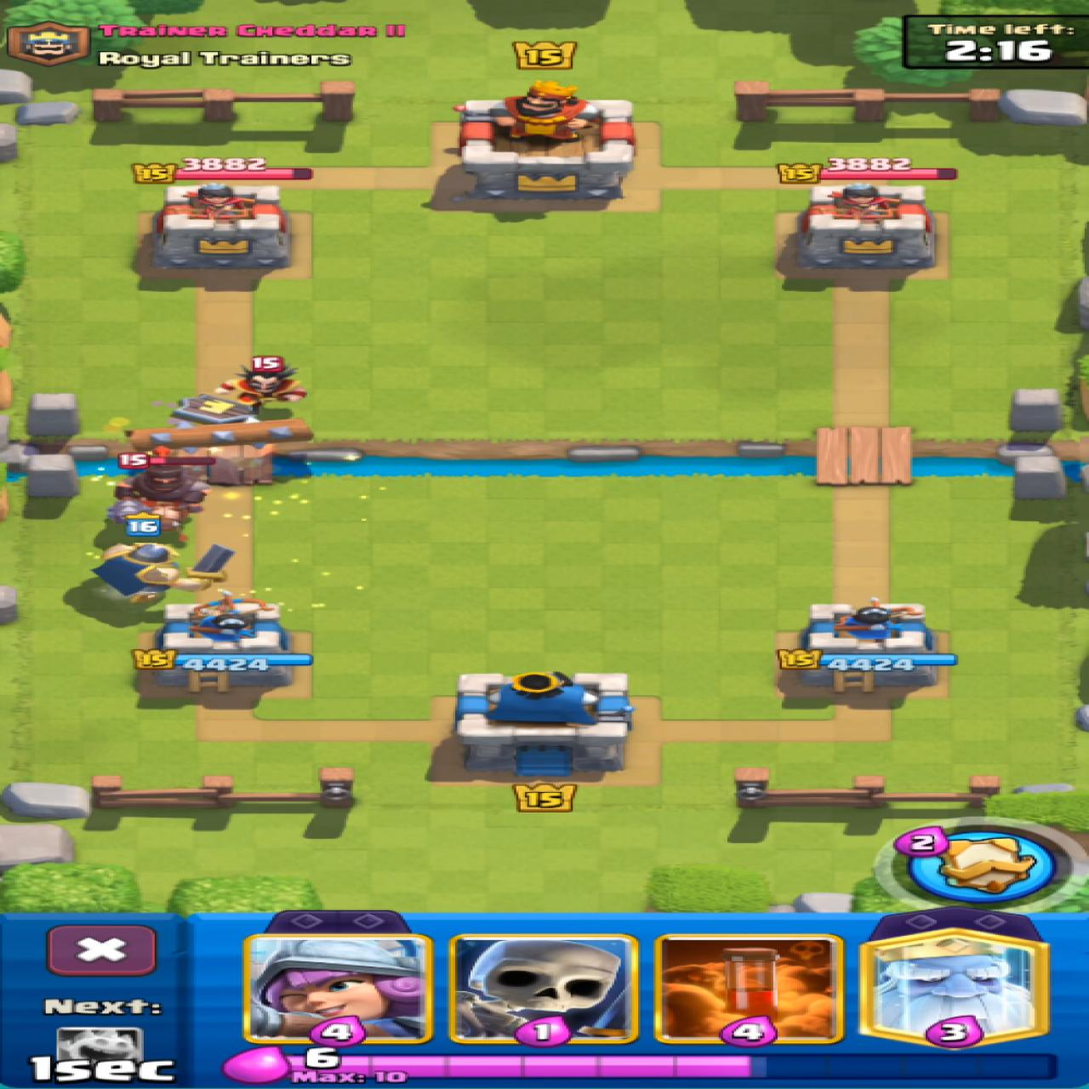Enemy-DarkPrince: (109, 466, 207, 531)
Enemy-ElectroWizard: (213, 357, 305, 413)
Enemy-KingTower: (460, 81, 634, 198)
Enemy-PrincessTower: (791, 183, 934, 278), (152, 183, 290, 269)
